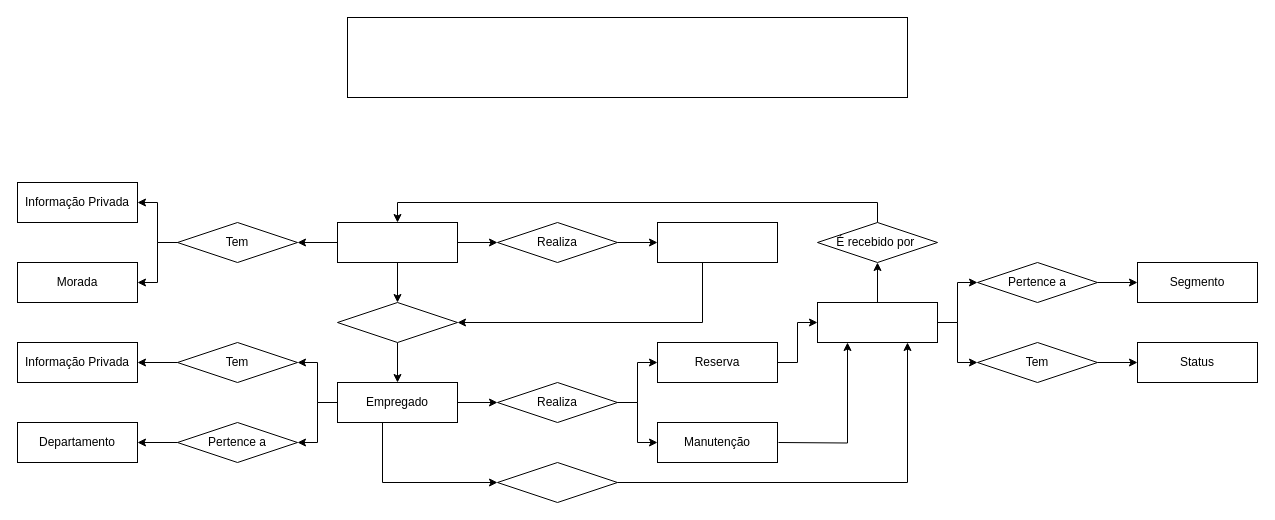
Some shapes in this 1275 by 520 pixel diagram are drawn without their labels. Each missing label, with the centre of its shape:
"Carro" goes at (877,322).
"Cliente" goes at (397,242).
"Entrega" goes at (717,242).
"Fala com" goes at (397,322).
"Recebe" goes at (557,482).
"Use Case Passeios – Serviços de Aluguer de Carros, Lda" goes at (627,57).
